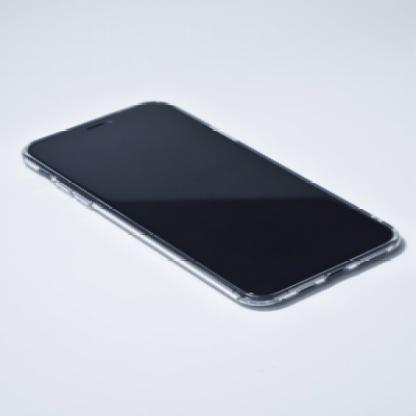cell-phone: (27, 103, 404, 307), (8, 76, 9, 83)
